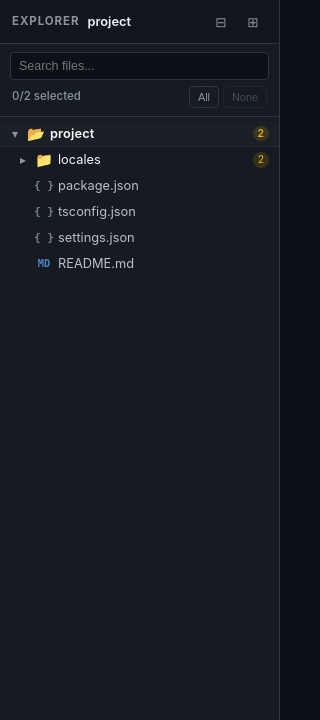
Scenario: ProjectExplorer › filters files when searching in search input
Type "README" into the search field labelled "Search files..." at (140, 66), box [10,52,269,80]
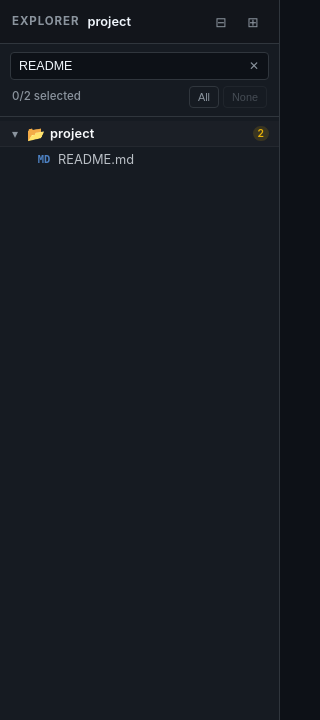
Expected: the text "README.md" is shown, [58,152,134,167]
Expected: the button "locales" is gone
